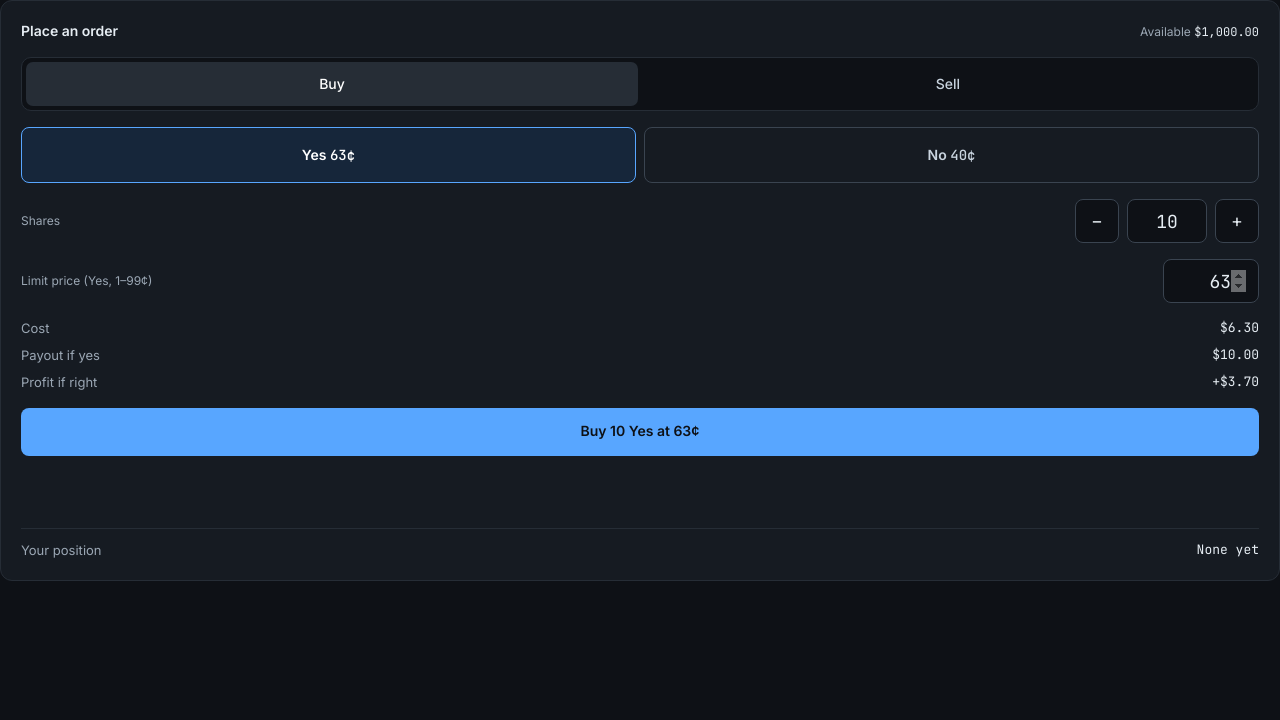
it: OrderTicket › a typed limit price sticks, is clamped, and can be reset to the best price
Replace the text in the number field with test id "ticket-price" with "150" at coordinates (1211, 281), box [1163, 259, 1259, 303]
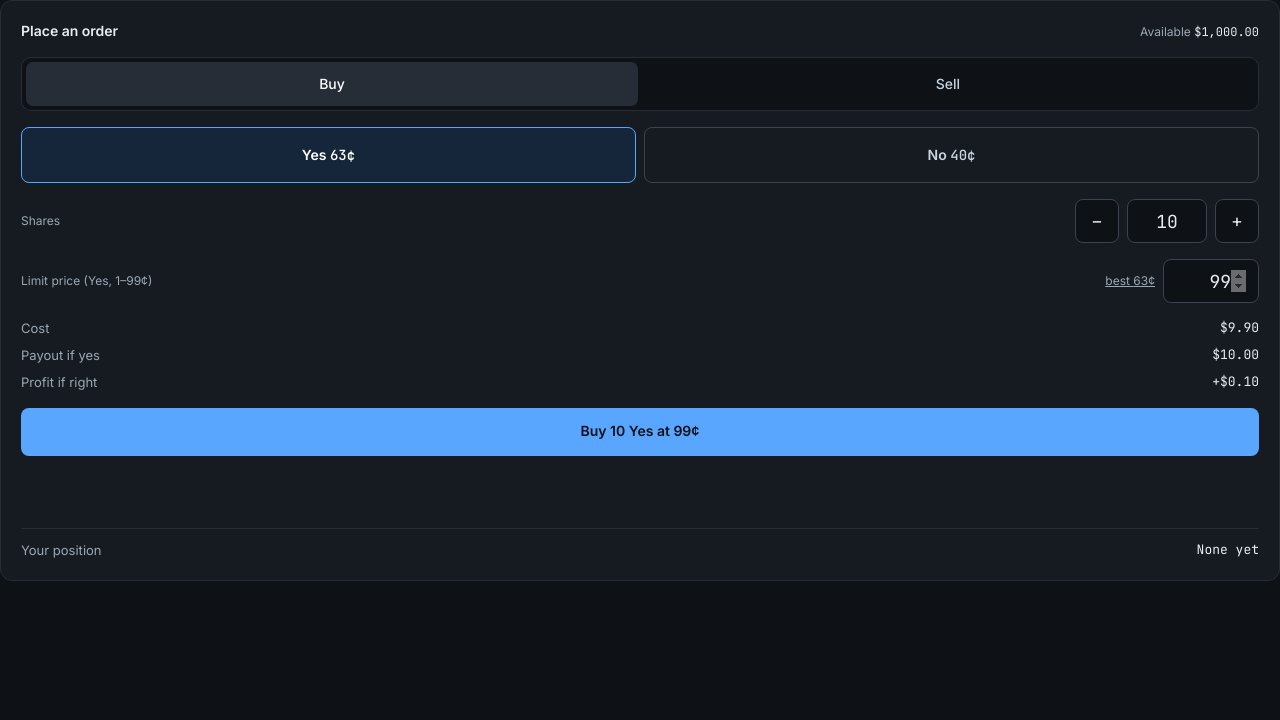
Expected: the number field with test id "ticket-price" holds "99"
Replace the text in the number field with test id "ticket-price" with "55" at coordinates (1211, 281), box [1163, 259, 1259, 303]
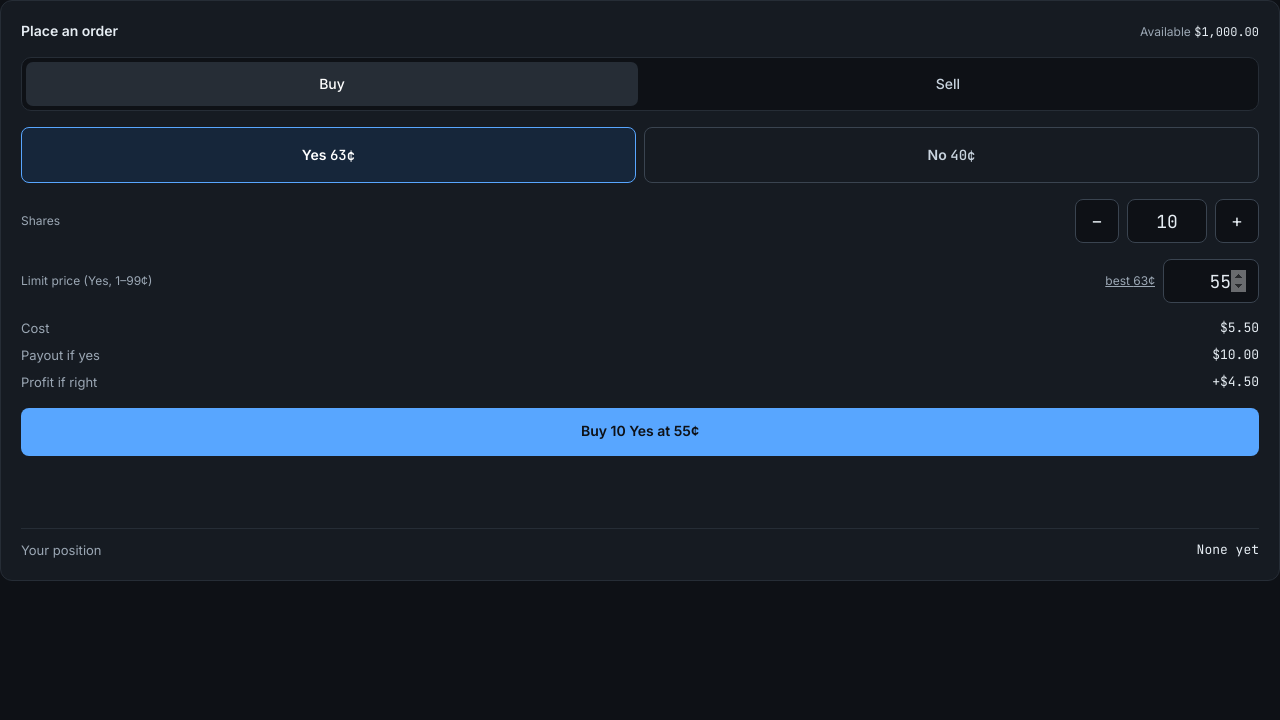
Click the button with test id "ticket-price-reset".
click(1130, 281)  # box [1105, 273, 1155, 289]
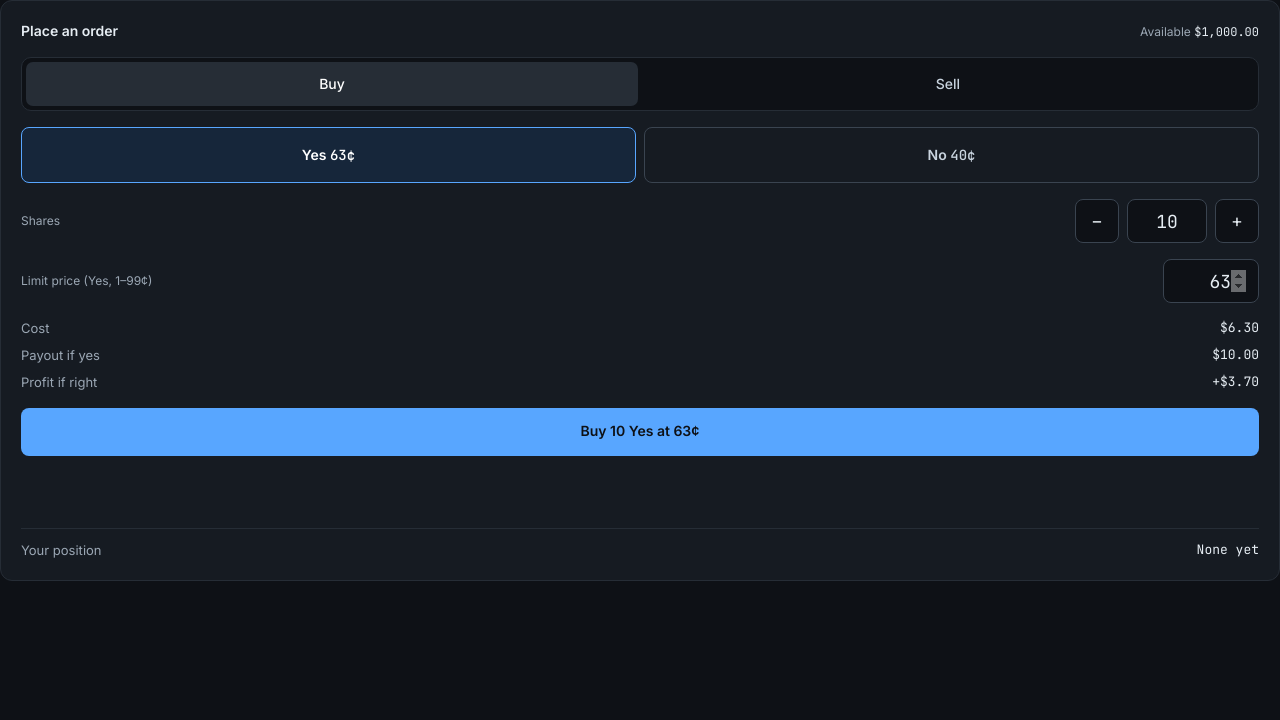
Expected: the number field with test id "ticket-price" holds "63", [1163, 259, 1259, 303]
